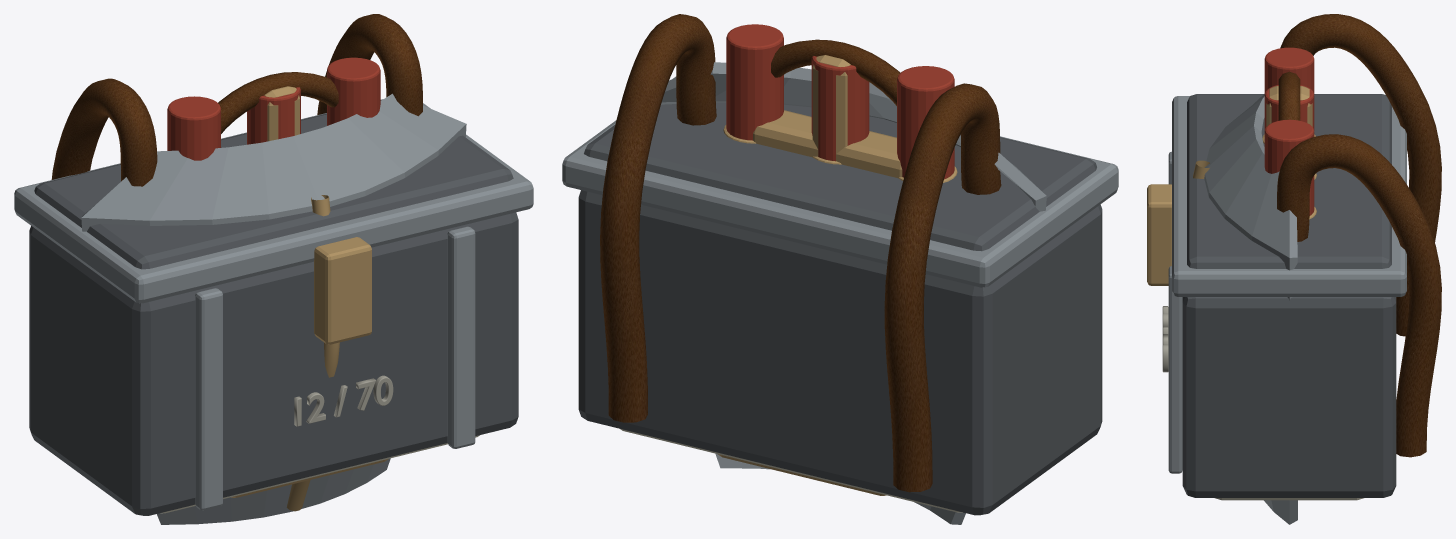
The model's file is supplies.glb.
3 renders of one model, left to right at view 1: azimuth 30°, elevation 25°; view 2: azimuth 150°, elevation 25°; view 3: azimuth 270°, elevation 25°, orthographic. The views are drawn at different scales.
Parts seen in each view (by area): view 1: Ammo field box, Forged breastplate, Ammo lid, Tin lid, Armor shoulder strap, Ammo box reinforcement.001, Ammo box reinforcement, Latch, Armor shoulder strap.001, Shot shell, Shot shell.002, Carry handle (+4 smaller); view 2: Ammo field box, Tin lid, Armor shoulder strap.001, Armor shoulder strap, Ammo lid, Shot shell.002, Forged breastplate, Relic arms, Shot shell.001, Shot shell, Carry handle, Relic cross (+1 smaller); view 3: Ammo field box, Tin lid, Armor shoulder strap.001, Ammo lid, Armor shoulder strap, Forged breastplate, Ammo box reinforcement.001, Latch, Shot shell.002, Shot shell, Carry handle, Shot shell.001 (+3 smaller).
Part boxes in pixels (<box>): Ammo field box: <box>29,212,518,515</box>; Forged breastplate: <box>81,93,466,524</box>; Ammo lid: <box>14,99,533,303</box>; Tin lid: <box>34,100,513,269</box>; Armor shoulder strap: <box>51,78,157,186</box>; Ammo box reinforcement.001: <box>447,226,475,448</box>; Ammo box reinforcement: <box>195,288,222,510</box>; Latch: <box>314,237,371,344</box>; Armor shoulder strap.001: <box>317,14,422,116</box>; Shot shell: <box>167,96,220,160</box>; Shot shell.002: <box>327,57,380,125</box>; Carry handle: <box>218,72,338,133</box>; Ammo field box: <box>578,190,1102,515</box>; Tin lid: <box>584,102,1096,251</box>; Armor shoulder strap.001: <box>600,14,716,422</box>; Armor shoulder strap: <box>884,83,1001,492</box>; Ammo lid: <box>562,76,1118,287</box>; Shot shell.002: <box>726,24,783,140</box>; Forged breastplate: <box>661,62,1046,524</box>; Relic arms: <box>753,110,902,177</box>; Shot shell.001: <box>811,56,869,161</box>; Shot shell: <box>897,66,954,179</box>; Carry handle: <box>771,39,900,105</box>; Relic cross: <box>812,55,850,153</box>; Ammo field box: <box>1182,297,1396,497</box>; Tin lid: <box>1187,94,1391,268</box>; Armor shoulder strap.001: <box>1277,134,1441,457</box>; Ammo lid: <box>1172,96,1406,296</box>; Armor shoulder strap: <box>1280,14,1441,336</box>; Forged breastplate: <box>1204,94,1297,524</box>; Ammo box reinforcement.001: <box>1168,266,1182,473</box>; Latch: <box>1147,184,1171,285</box>; Shot shell.002: <box>1264,119,1314,215</box>; Shot shell: <box>1264,47,1314,94</box>; Carry handle: <box>1278,71,1300,120</box>; Shot shell.001: <box>1264,85,1314,130</box>.
Bounding box in the file's own units: 0.6 × 0.6162 × 0.414.
7 materials, 1 textured.
